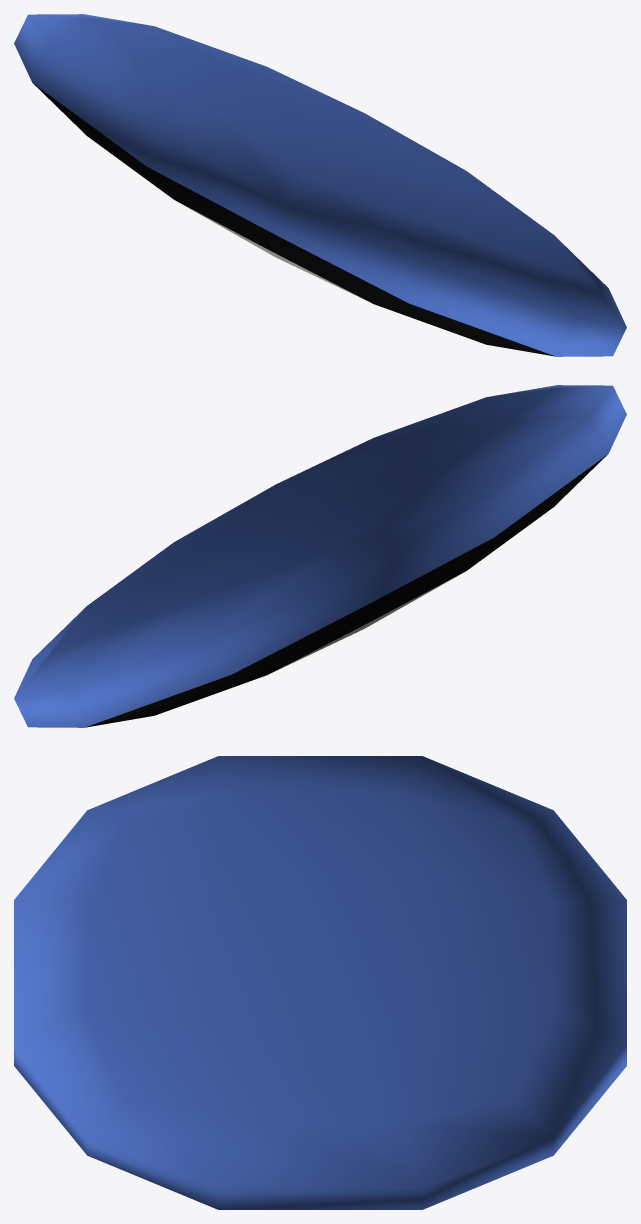
The model's file is Spring_Cartoon_Eye_Right.obj.
3 renders of one model, top to bottom at view 1: azimuth 30°, elevation 25°; view 2: azimuth 150°, elevation 25°; view 3: azimuth 270°, elevation 25°, orthographic. The views are drawn at different scales.
Parts seen in each view (by area): view 1: Mesh; view 2: Mesh; view 3: Mesh.
Part boxes in pixels (bbox=[...]): Mesh: bbox=[14, 14, 626, 356]; Mesh: bbox=[14, 385, 626, 727]; Mesh: bbox=[14, 756, 626, 1209].
Size of the model in its own units: 0.9294 by 0.5795 by 1.2.
